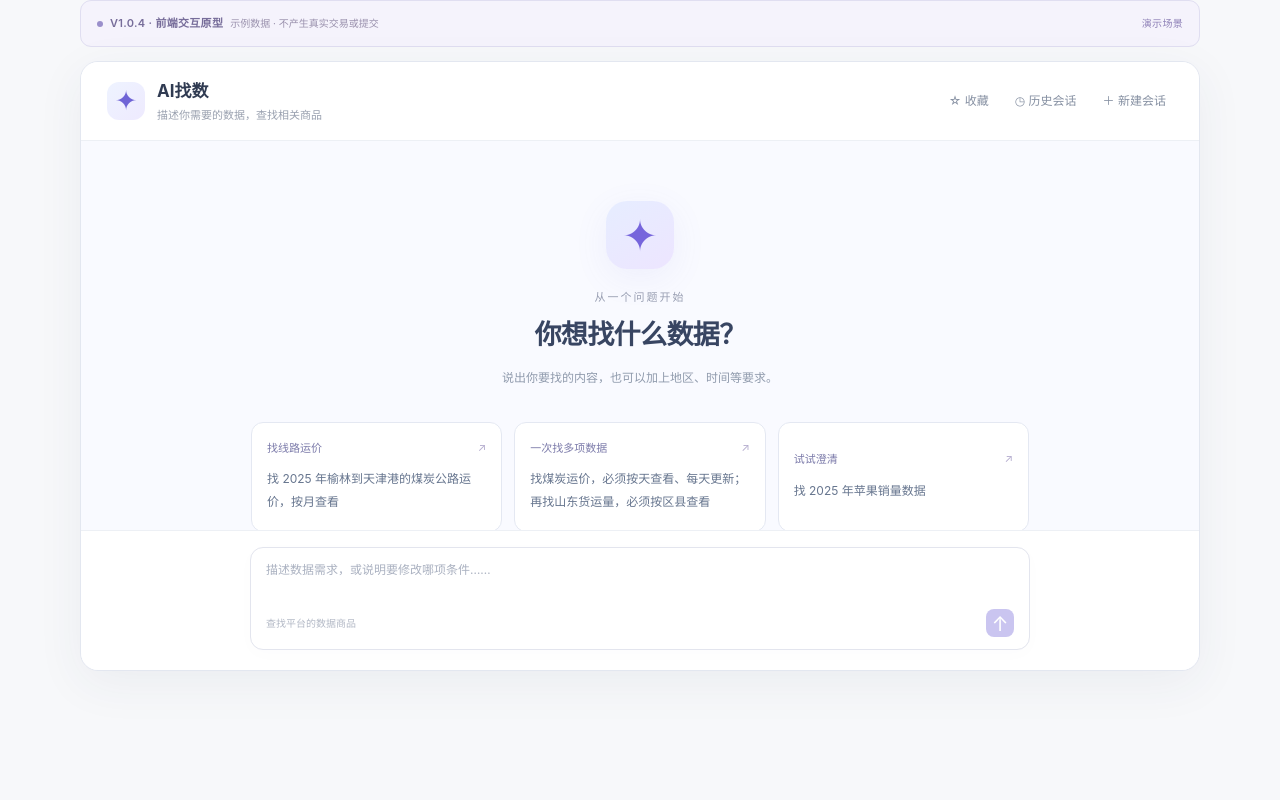
Test: 纯前端交互原型 › submits a clarification with Enter and only then shows matching products
The image size is (1280, 800).
Type "找2025年苹果销量" into the text box named "描述数据需求" at (640, 581), box x1=266 y1=560 x2=1014 y2=601
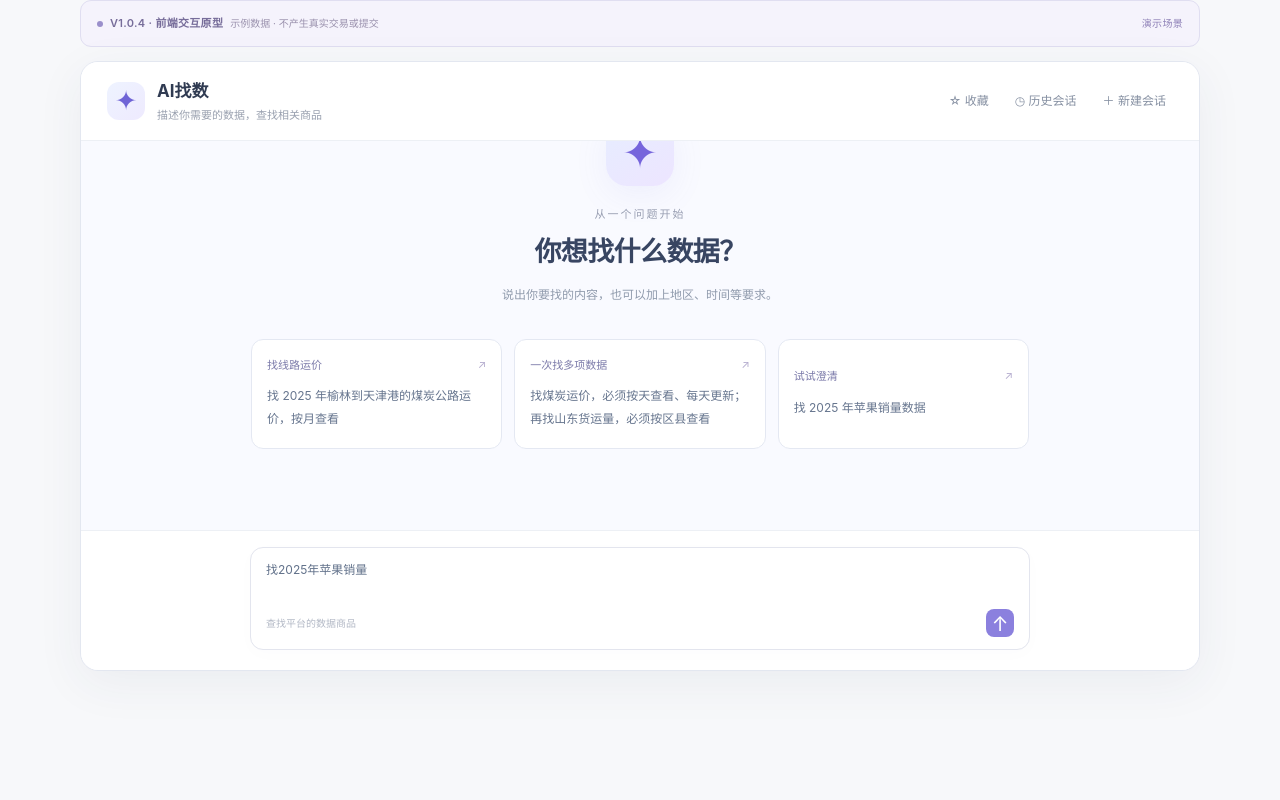
Submit the form with class "composer-box", box x1=250 y1=547 x2=1030 y2=650
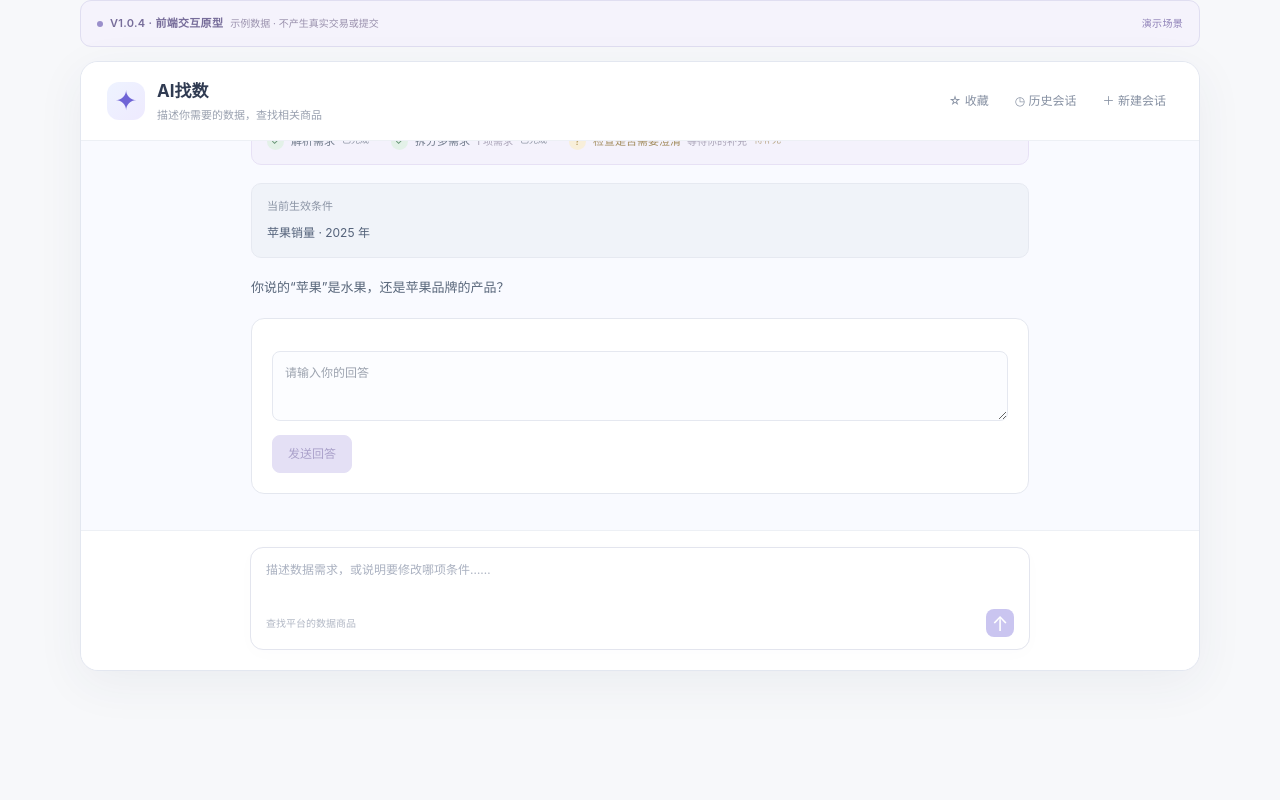
Type "水果" into the text box named "澄清回答" at (640, 386), box x1=272 y1=351 x2=1008 y2=421
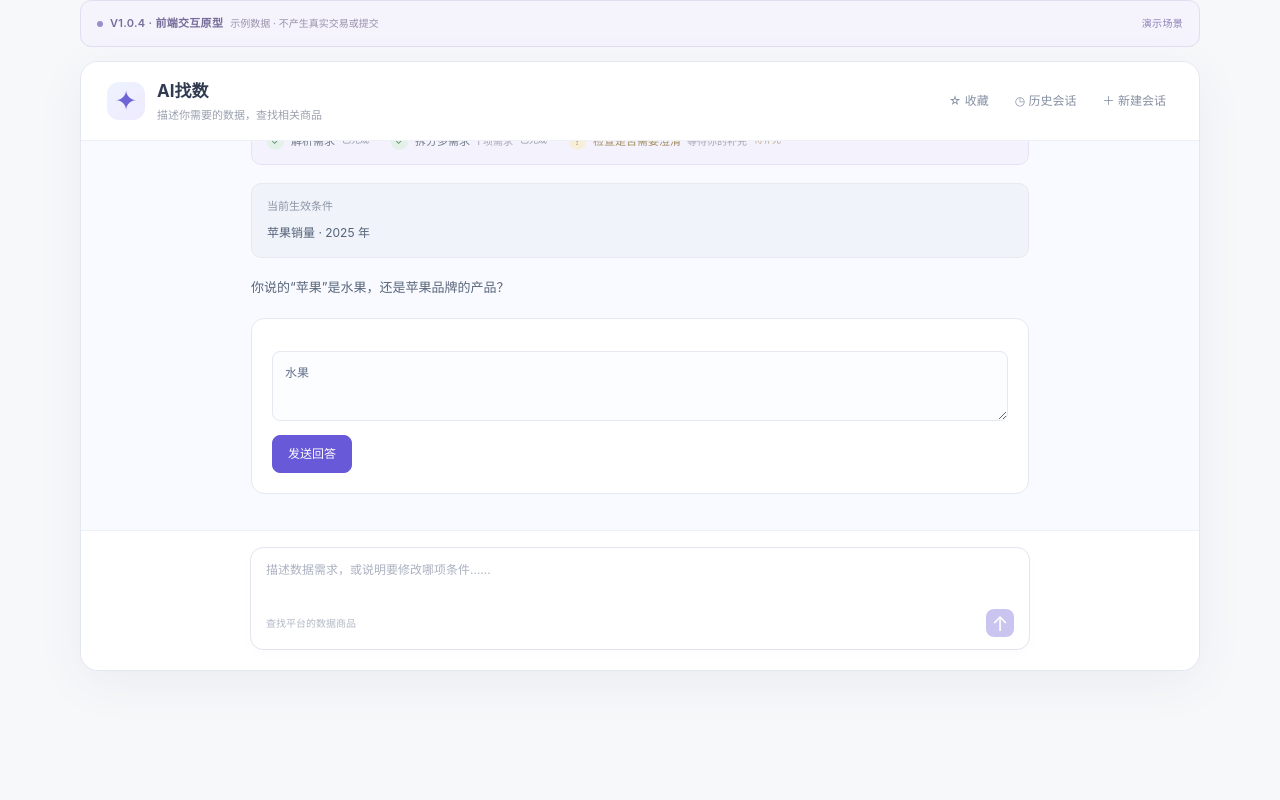
Press Enter in the text box named "澄清回答", box x1=272 y1=351 x2=1008 y2=421
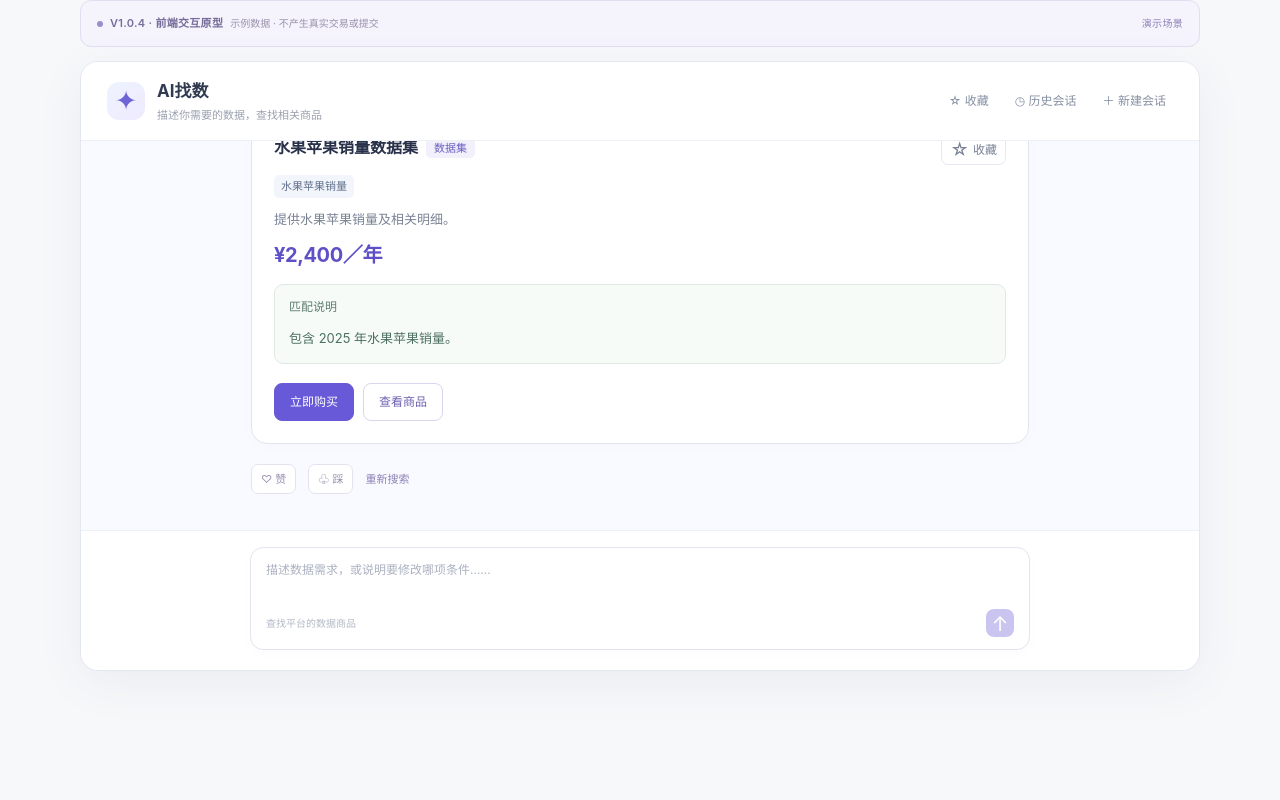
Check: the element that starts with "相关数据商品 · 已去重" shows "水果苹果销量", box x1=281 y1=179 x2=347 y2=193
